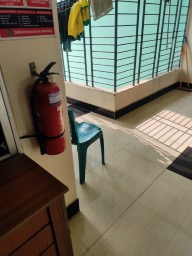fire_extinguisher: (46, 167, 117, 218)
